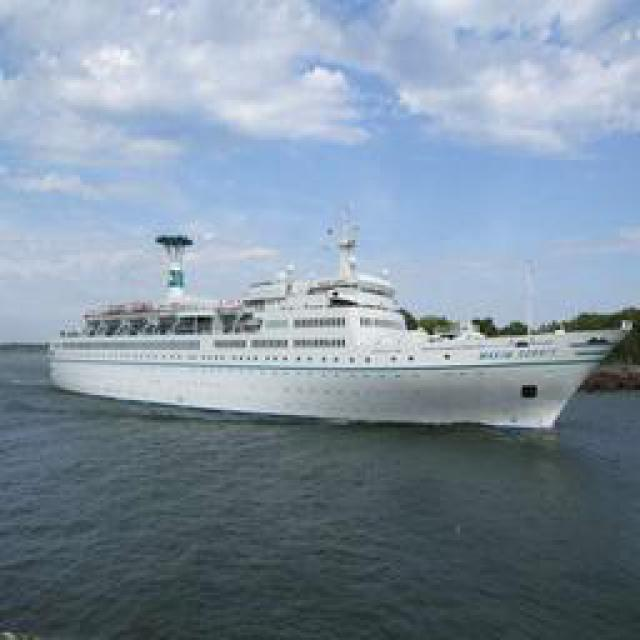Ship: (40, 206, 628, 426)
